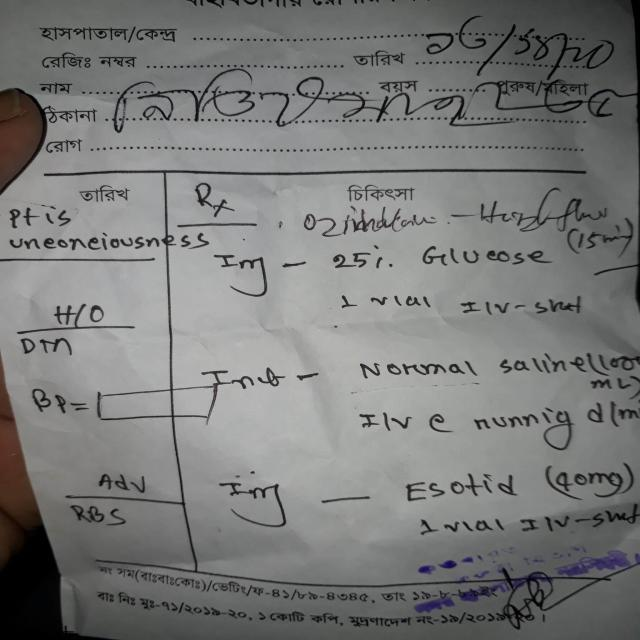Esotid: (394, 471, 523, 507)
Glucose: (414, 241, 560, 272)
Normal Saline: (348, 350, 591, 384)
